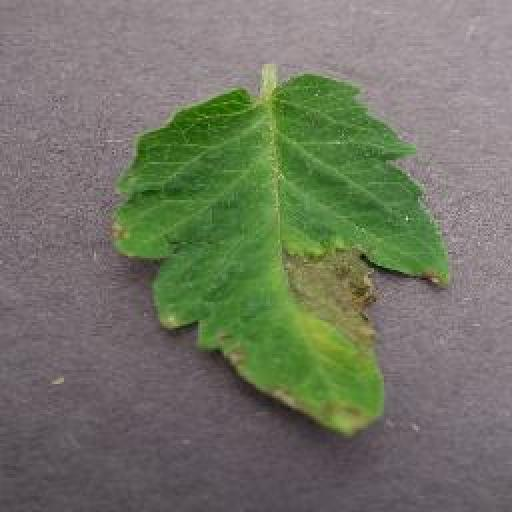disease_tomato: (112, 71, 449, 440)
